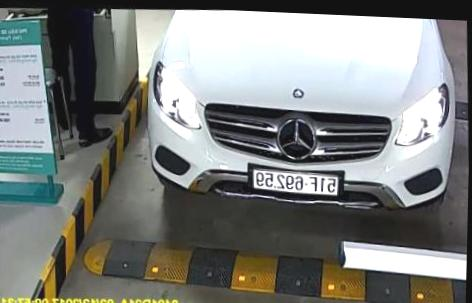License_Plate: (248, 158, 349, 201)
